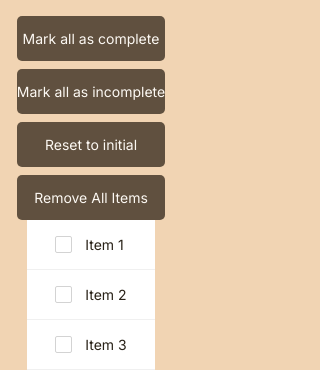
ButtonGroup › marks all items as complete and incomplete
The width and height of the screenshot is (320, 370).
Click the button "Mark all as complete" at (91, 38), box left=17, top=16, right=165, bottom=61
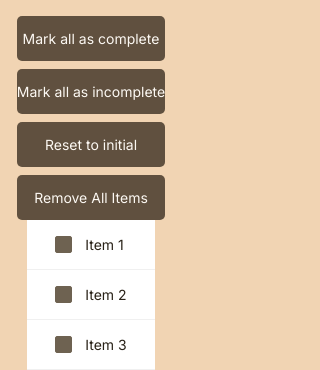
Expected: the checkbox labelled "Item 1" is checked, left=55, top=236, right=72, bottom=253
Expected: the checkbox labelled "Item 2" is checked, left=55, top=286, right=72, bottom=303
Expected: the checkbox labelled "Item 3" is checked, left=55, top=336, right=72, bottom=353
Click the button "Mark all as incomplete" at (91, 92), box left=17, top=69, right=165, bottom=114
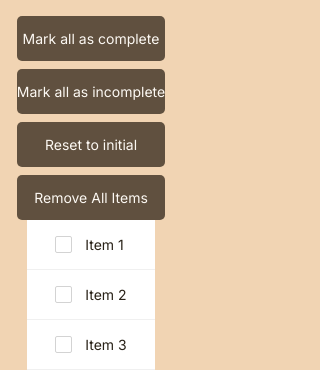
Expected: the checkbox labelled "Item 1" is not checked, left=55, top=236, right=72, bottom=253
Expected: the checkbox labelled "Item 2" is not checked, left=55, top=286, right=72, bottom=303
Expected: the checkbox labelled "Item 3" is not checked, left=55, top=336, right=72, bottom=353
